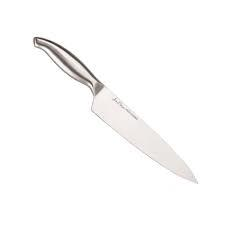Knife: (32, 35, 198, 184)
